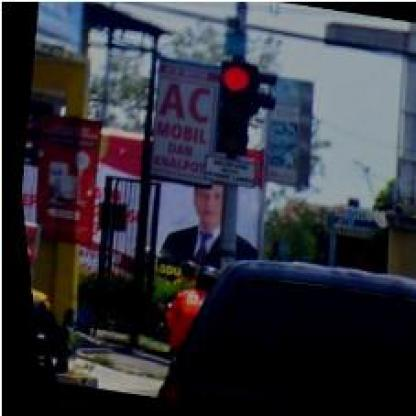red: (200, 59, 258, 158)
